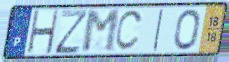C: (113, 9, 145, 53)
H: (26, 9, 60, 56)
I: (151, 8, 166, 53)
M: (81, 8, 121, 55)
O: (173, 8, 201, 52)
Z: (53, 8, 90, 55)
